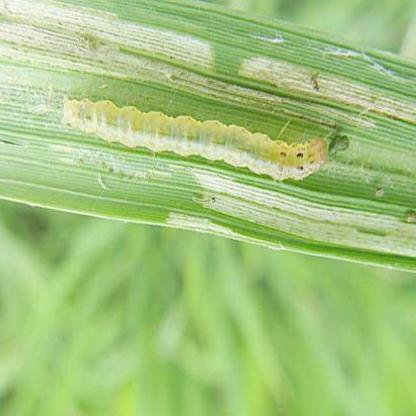leaf-folder: (60, 76, 351, 188)
